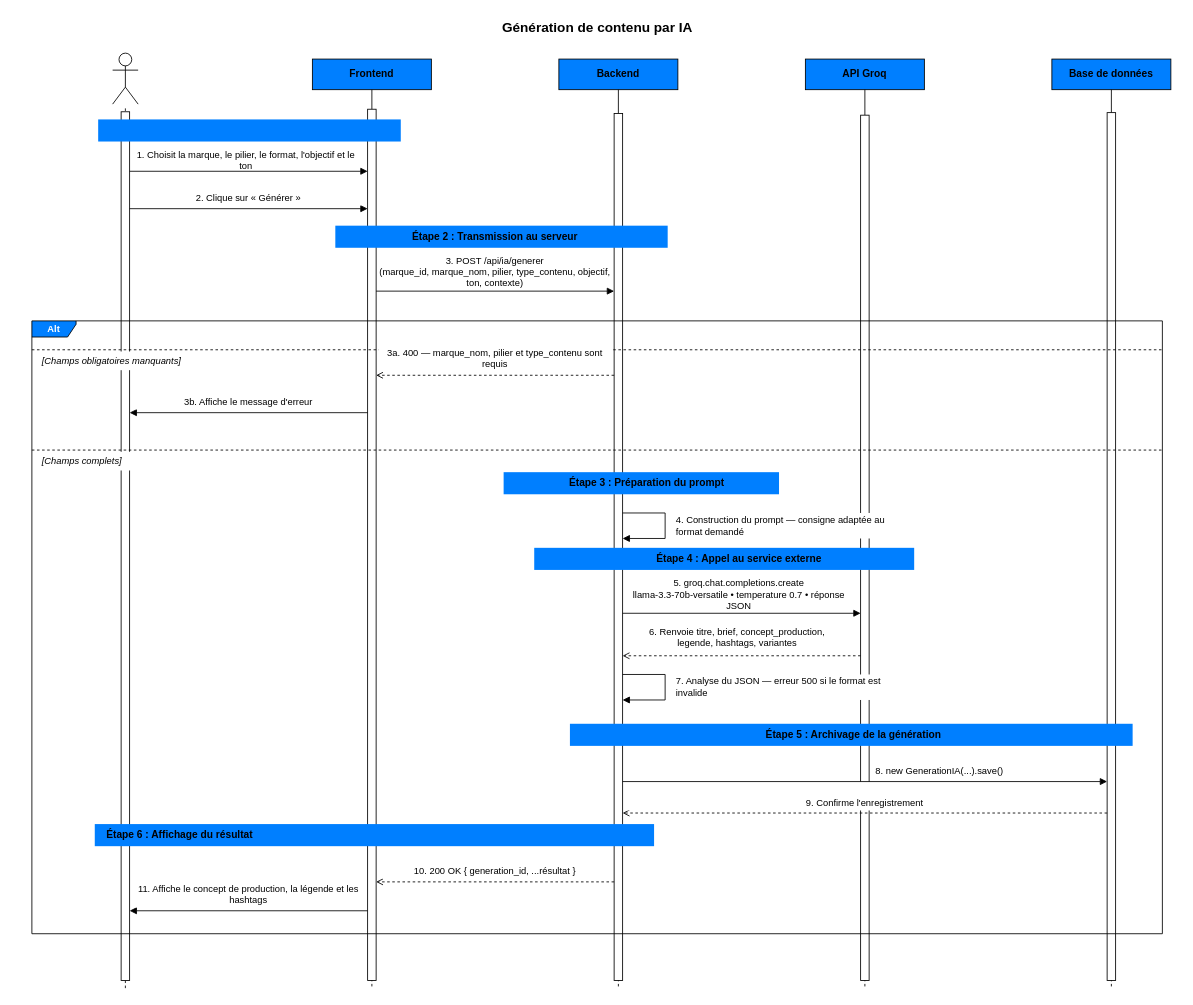
Image size: 1193x1005. Some labels were removed from this diagram. Here are the shapes that lost their labels. From the top down, the centre of each, then its label:
At point (125, 78): "Utilisateur".
At point (249, 130): "Étape 1 : Demande de génération".
